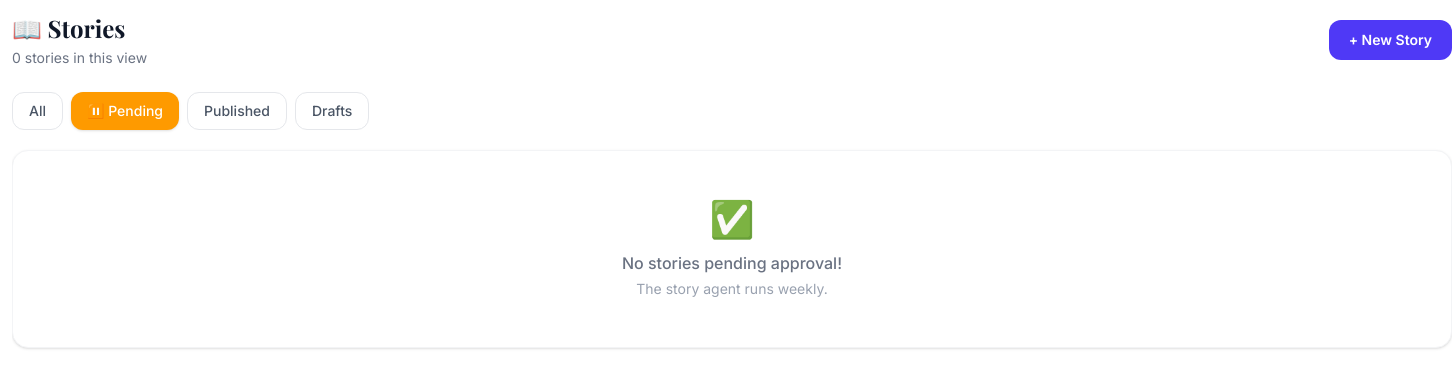
Test: Stories (admin) › switches filters and reloads
This screenshot has width=1452, height=366.
Click the button "Published" at (237, 111), box [187,92,287,130]
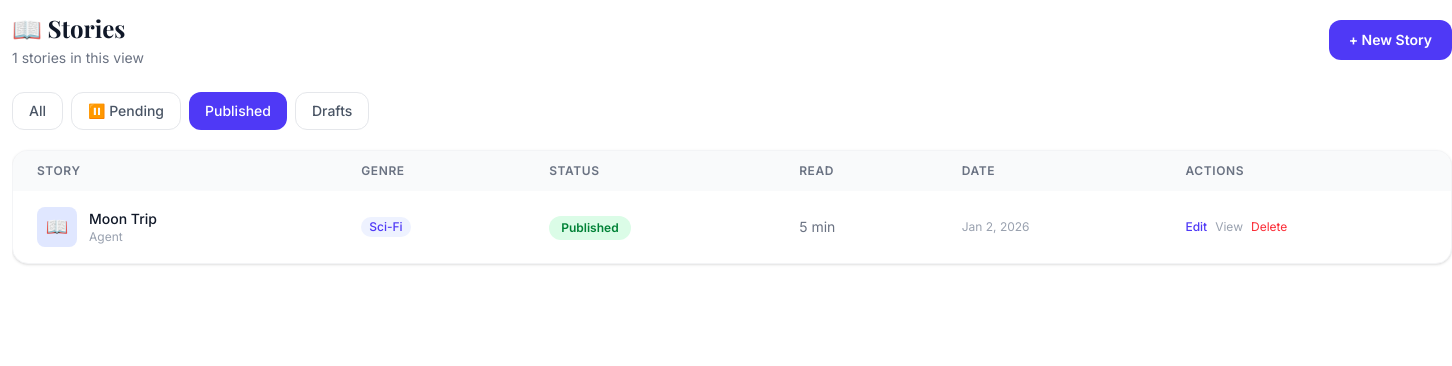
Check: the text "Moon Trip" is shown, box [89,209,157,229]
